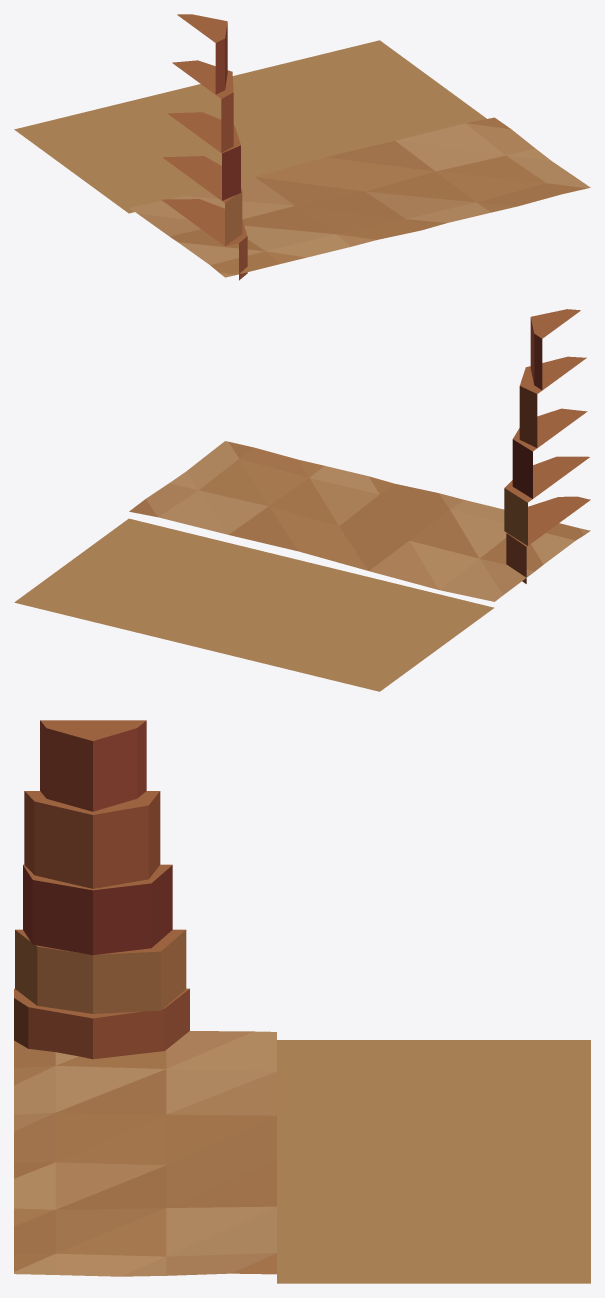
3 renders of one model, top to bottom at view 1: azimuth 30°, elevation 25°; view 2: azimuth 150°, elevation 25°; view 3: azimuth 270°, elevation 25°, orthographic. The views are drawn at different scales.
Parts seen in each view (by area): view 1: baked; view 2: baked; view 3: baked.
Boxes of the visible parts, left/top/right/bottom form: baked: left=14, top=14, right=590, bottom=280; baked: left=14, top=309, right=590, bottom=691; baked: left=14, top=720, right=590, bottom=1283.
Size of the model in its own units: 62.5 by 38.2 by 62.5.
